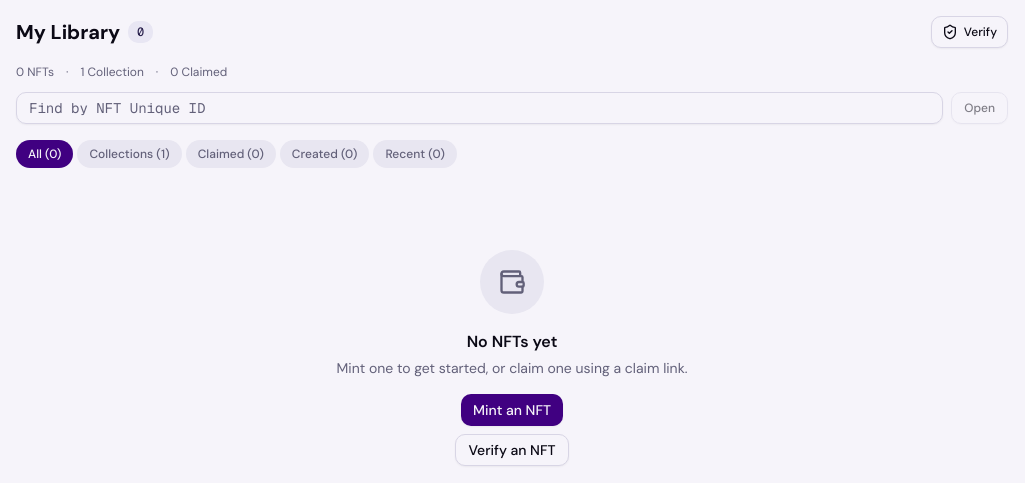
Library tabs and collections › switches to the Collections tab and lists collections
Click the button "Collections (1)" at point(130, 154), box [78,140,182,168]
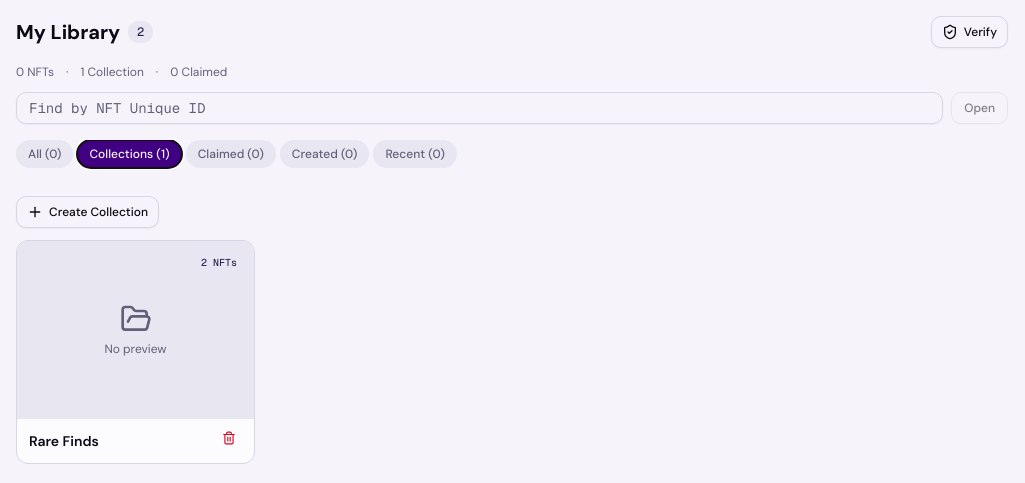
Expected: the element showing "Create Collection No preview 2 NFTs Rare Finds" is shown, [16,196,255,464]
Result: the text "Rare Finds" is shown at [29,432,99,450]
